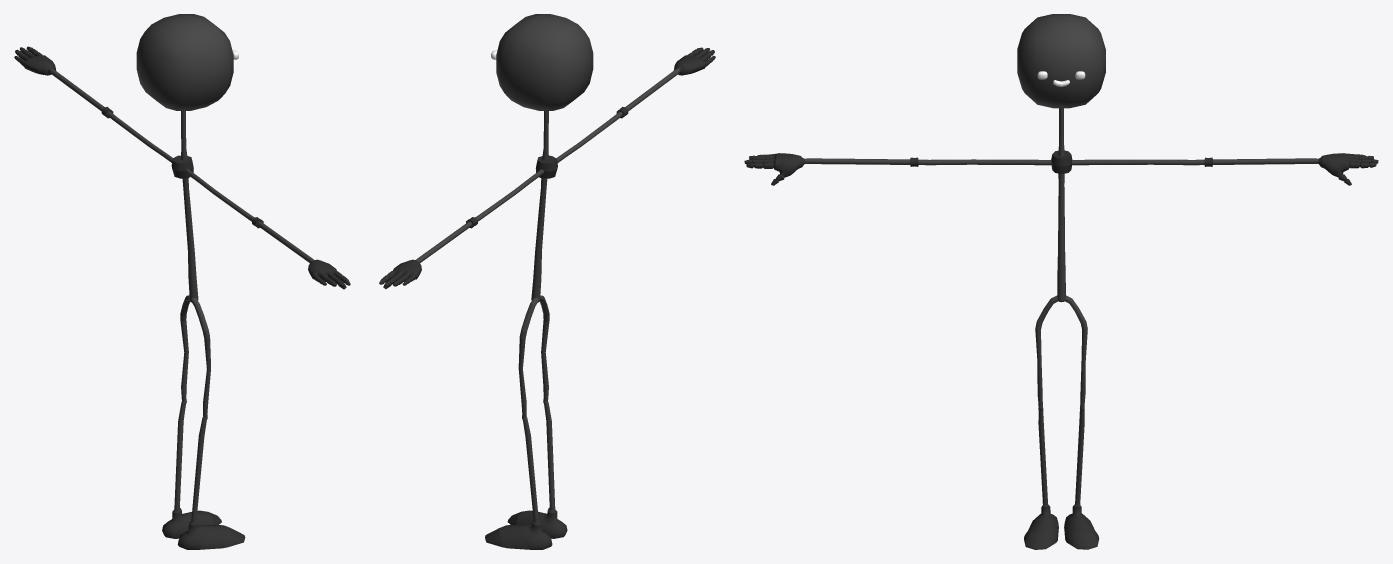
Rendered from Stickman.glb.
3 renders of one model, left to right at view 1: azimuth 30°, elevation 25°; view 2: azimuth 150°, elevation 25°; view 3: azimuth 270°, elevation 25°, orthographic. The views are drawn at different scales.
Visible parts, largest first — view 1: _100Avatars_198_CoolStickman; view 2: _100Avatars_198_CoolStickman; view 3: _100Avatars_198_CoolStickman.
Part boxes in pixels (x1,y1,x2,y2): _100Avatars_198_CoolStickman: (14,14,350,549); _100Avatars_198_CoolStickman: (379,14,715,549); _100Avatars_198_CoolStickman: (744,14,1378,549).
Bounding box in the file's own units: 0.8815 × 5.07 × 5.75.
1 material, 1 textured.
